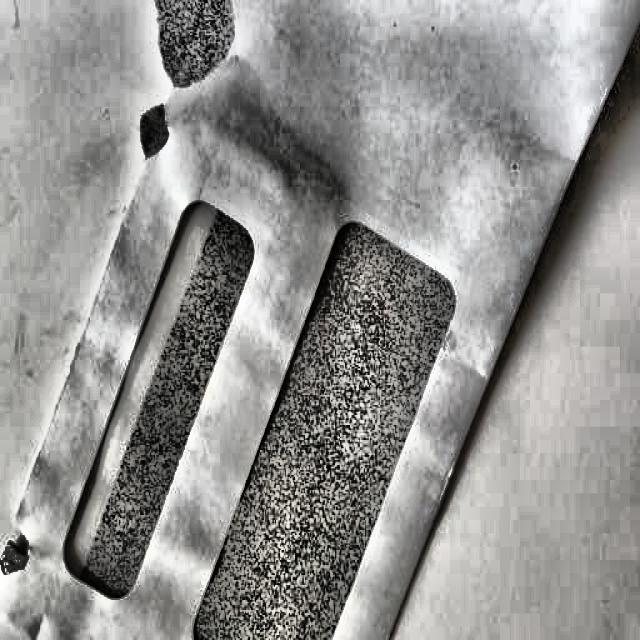paper: (4, 0, 638, 640)
